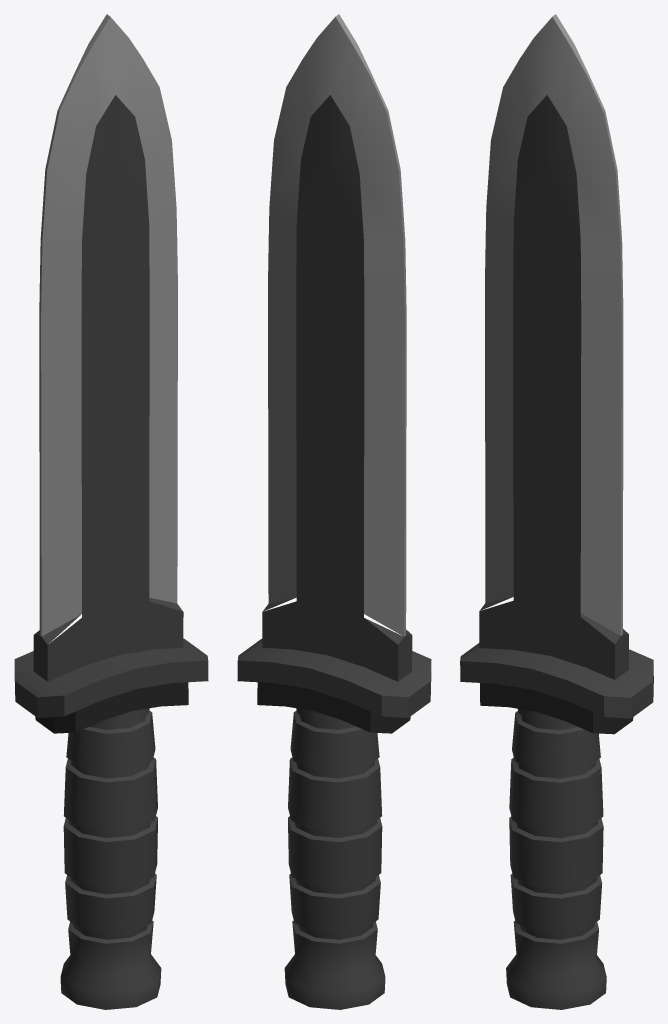
Rendered from knife.glb.
The picture shows the model from 3 angles, left to right: view 1: azimuth 30°, elevation 25°; view 2: azimuth 150°, elevation 25°; view 3: azimuth 330°, elevation 25°; orthographic projection.
Visible parts, largest first — view 1: Knife_2; view 2: Knife_2; view 3: Knife_2.
Part boxes in pixels (x1,y1,x2,y2): Knife_2: [14, 14, 208, 1009]; Knife_2: [237, 14, 431, 1009]; Knife_2: [460, 14, 653, 1009].
Bounding box in the file's own units: 0.2481 × 1.35 × 0.1298.
Materials: 3 (3 with a texture image).
